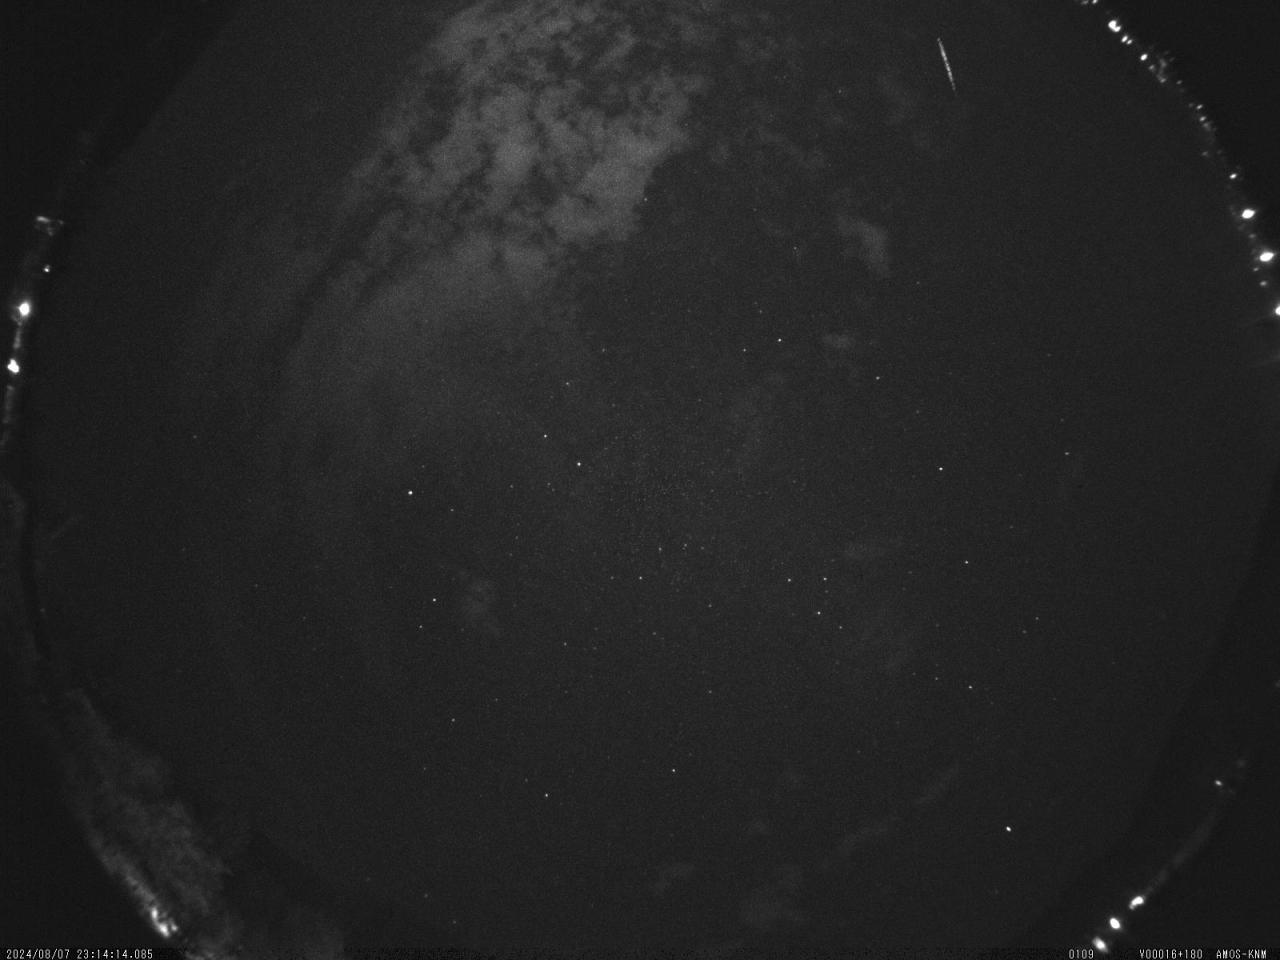Meteor: (931, 31, 962, 97)
